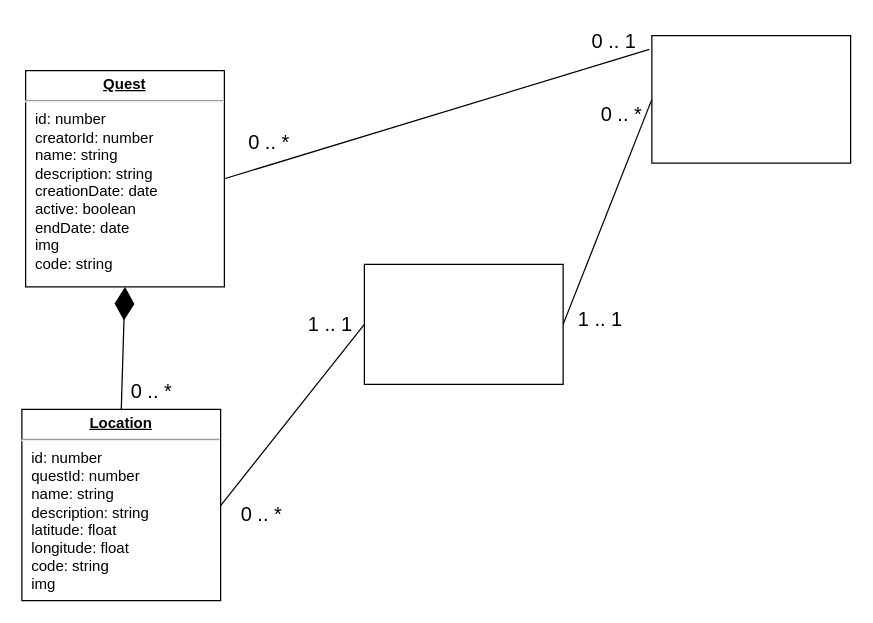
Some shapes in this 873 by 623 pixel diagram are drawn without their labels. Here are the shapes that lost their labels. From the top down, the box of each, then its label:
(651, 34, 851, 163): User id: number username: string passhash: string creationDate: date
(363, 263, 563, 384): UserClaim id: number userId: number locationID: number date: date
